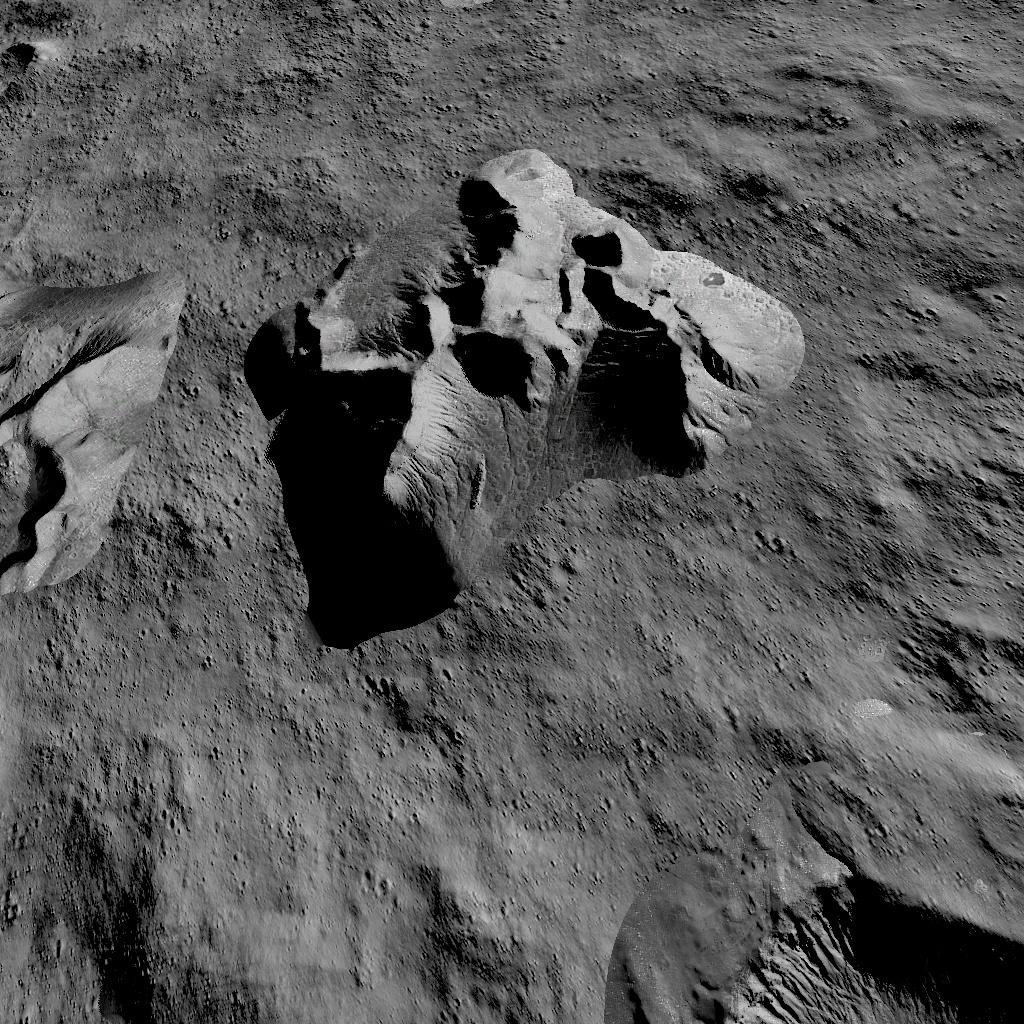Boulders: (237, 138, 809, 646), (0, 260, 192, 600)
Crater: (647, 843, 1024, 1024), (909, 604, 1024, 745), (86, 916, 180, 1024), (0, 32, 46, 85)
Plan surface: (214, 664, 632, 1024), (233, 0, 1024, 117), (826, 144, 1022, 580), (7, 624, 198, 890), (656, 662, 884, 820), (58, 10, 212, 234)
